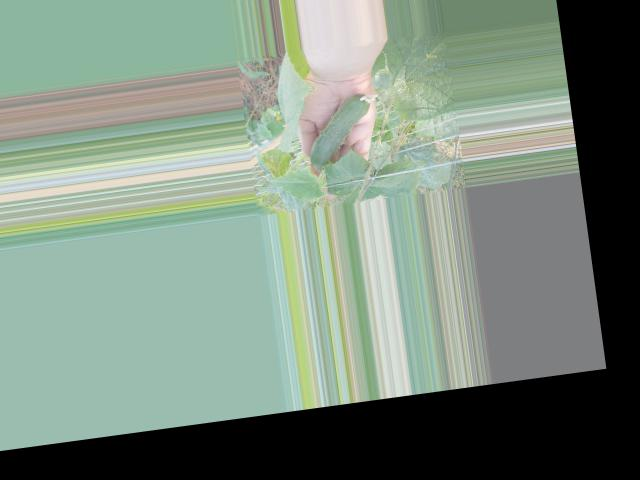cucumber: (303, 91, 387, 167)
